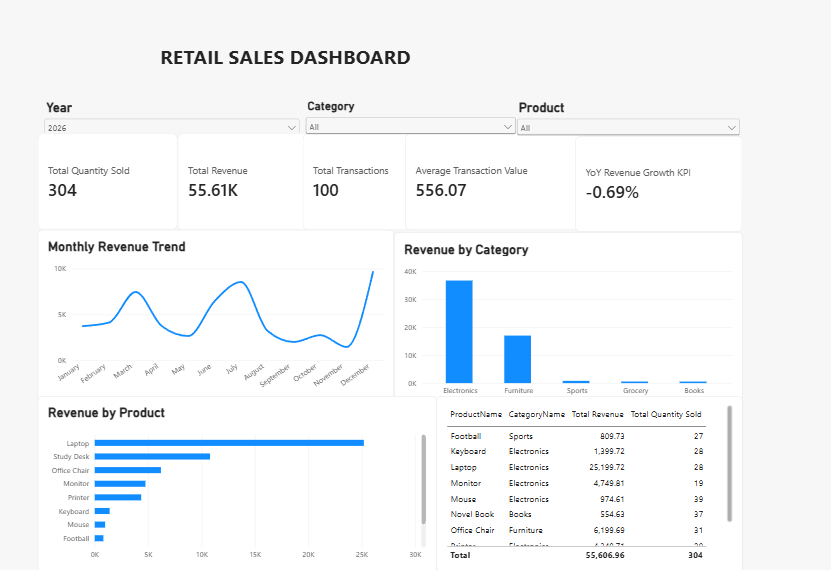

What the dashboard file says about the page in this screenshot:
{"tool":"powerbi","page":{"name":"Page 1","canvas":[1920,1080],"ordinal":0},"visuals":[{"type":"cardVisual","fields":{"Data":["Sales.Total Quantity Sold"]},"box":[244.9,358.1,230.5,158.5],"z":0},{"type":"cardVisual","fields":{"Data":["Sales.Total Revenue"]},"box":[475.5,358.1,300,159],"z":1},{"type":"cardVisual","fields":{"Data":["Sales.Total Transactions"]},"box":[681.3,358.1,300,159],"z":2},{"type":"cardVisual","fields":{"Data":["Sales.Average Transaction Value"]},"box":[850.1,358.1,300,159],"z":3},{"type":"slicer","fields":{"Values":["DateTable.Year"]},"box":[251.1,302.6,430.2,53.5],"z":6},{"type":"lineChart","title":"Monthly Revenue Trend","fields":{"Category":["DateTable.Month"],"Y":["Sales.Total Revenue"]},"box":[244.9,516.6,586.6,294.3],"z":7},{"type":"clusteredColumnChart","title":"Revenue by Category","fields":{"Category":["Categories.CategoryName"],"Y":["Sales.Total Revenue"]},"box":[831.6,520.8,574.3,290.2],"z":8},{"type":"clusteredBarChart","title":"Revenue by Product","fields":{"Category":["Products.ProductName"],"Y":["Sales.Total Revenue"]},"box":[244.9,790.4,656.6,290.2],"z":9},{"type":"tableEx","fields":{"Values":["Products.ProductName","Categories.CategoryName","Sales.Total Revenue","Sales.Total Quantity Sold"]},"box":[901.5,790.4,504.3,290.2],"z":10},{"type":"slicer","fields":{"Values":["Products.ProductName"]},"box":[1029.2,302.6,376.7,59.7],"z":11},{"type":"slicer","fields":{"Values":["Categories.CategoryName"]},"box":[681.3,302.6,356.1,92.6],"z":12},{"type":"textbox","box":[446.7,209.9,656.6,53.5],"z":13},{"type":"cardVisual","fields":{"Data":["DateTable.YoY Revenue Growth KPI"]},"box":[1130,362.3,275.8,158.5],"z":14}]}

Visuals, with their boxes on the page's 1920x1080 design canvas (x1, y1, x2, y2). These are canvas units, not pixel positions in the 831x570 screenshot, which may show the page scaled, cropped or inside an application window:
cardVisual - Sales.Total Quantity Sold: [245,358,475,517]
cardVisual - Sales.Total Revenue: [476,358,776,517]
cardVisual - Sales.Total Transactions: [681,358,981,517]
cardVisual - Sales.Average Transaction Value: [850,358,1150,517]
slicer - DateTable.Year: [251,303,681,356]
"Monthly Revenue Trend" lineChart: [245,517,832,811]
"Revenue by Category" clusteredColumnChart: [832,521,1406,811]
"Revenue by Product" clusteredBarChart: [245,790,902,1081]
tableEx - Products.ProductName x Categories.CategoryName: [902,790,1406,1081]
slicer - Products.ProductName: [1029,303,1406,362]
slicer - Categories.CategoryName: [681,303,1037,395]
textbox: [447,210,1103,263]
cardVisual - DateTable.YoY Revenue Growth KPI: [1130,362,1406,521]
